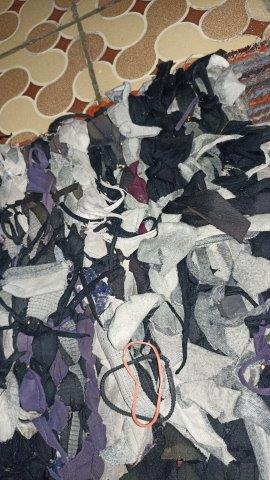karet: (100, 340, 177, 427)
